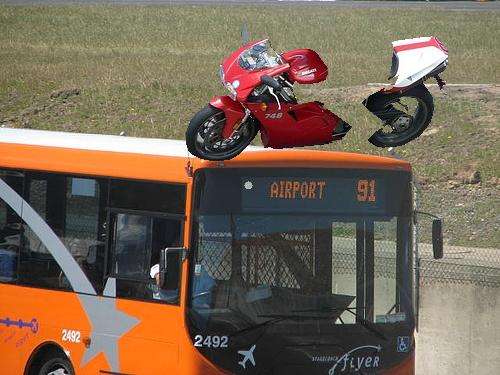tampered: (187, 25, 448, 189)
